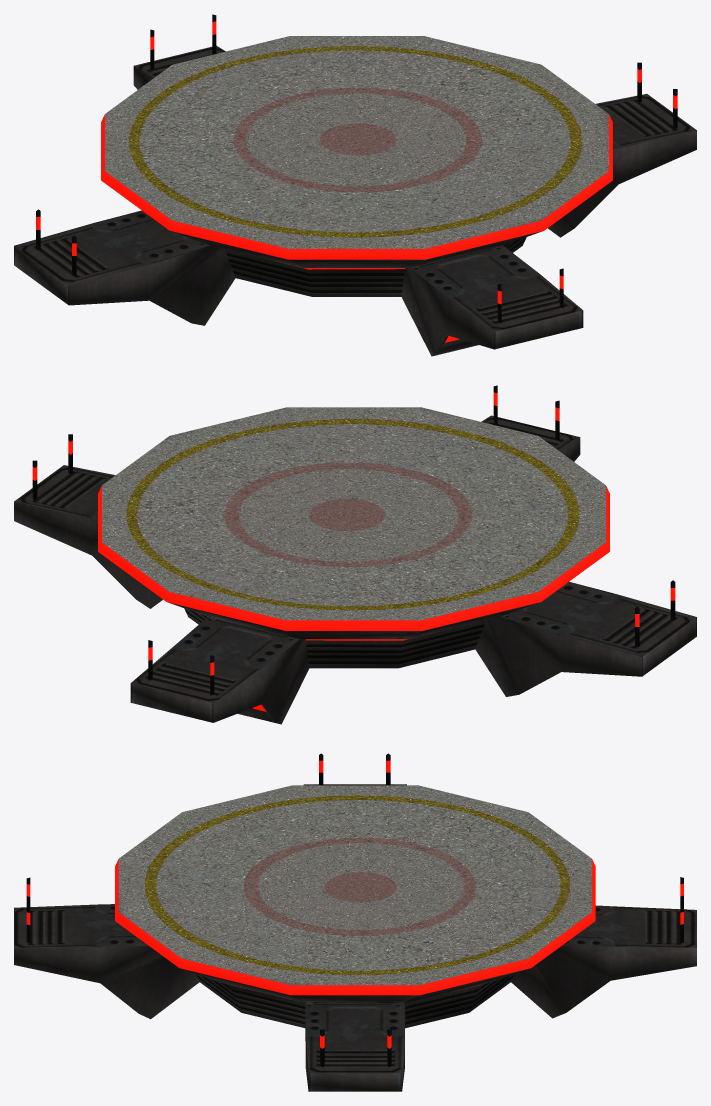
The model's file is Pod2.fbx.
The picture shows the model from 3 angles, top to bottom: view 1: azimuth 30°, elevation 25°; view 2: azimuth 150°, elevation 25°; view 3: azimuth 270°, elevation 25°; orthographic projection. The views are drawn at different scales.
Parts seen in each view (by area): view 1: Pod2_LOD0; view 2: Pod2_LOD0; view 3: Pod2_LOD0.
Part boxes in pixels (bbox=[...]): Pod2_LOD0: bbox=[14, 14, 696, 356]; Pod2_LOD0: bbox=[14, 385, 696, 724]; Pod2_LOD0: bbox=[14, 753, 696, 1091].
Size of what is drawn, in the model's own units: 3102 by 592 by 3099.
2 materials, 1 textured.
